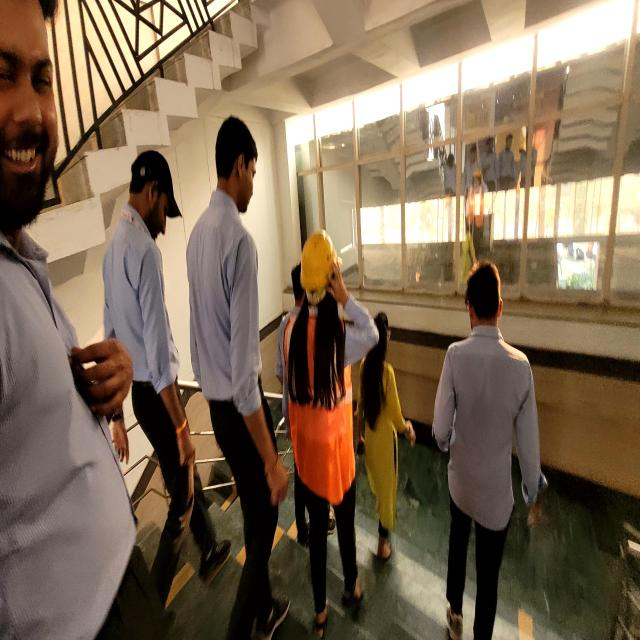safe: (285, 230, 376, 640)
unsafe: (1, 3, 146, 640), (106, 149, 226, 640), (185, 115, 291, 640), (431, 264, 542, 640), (357, 308, 418, 572)
